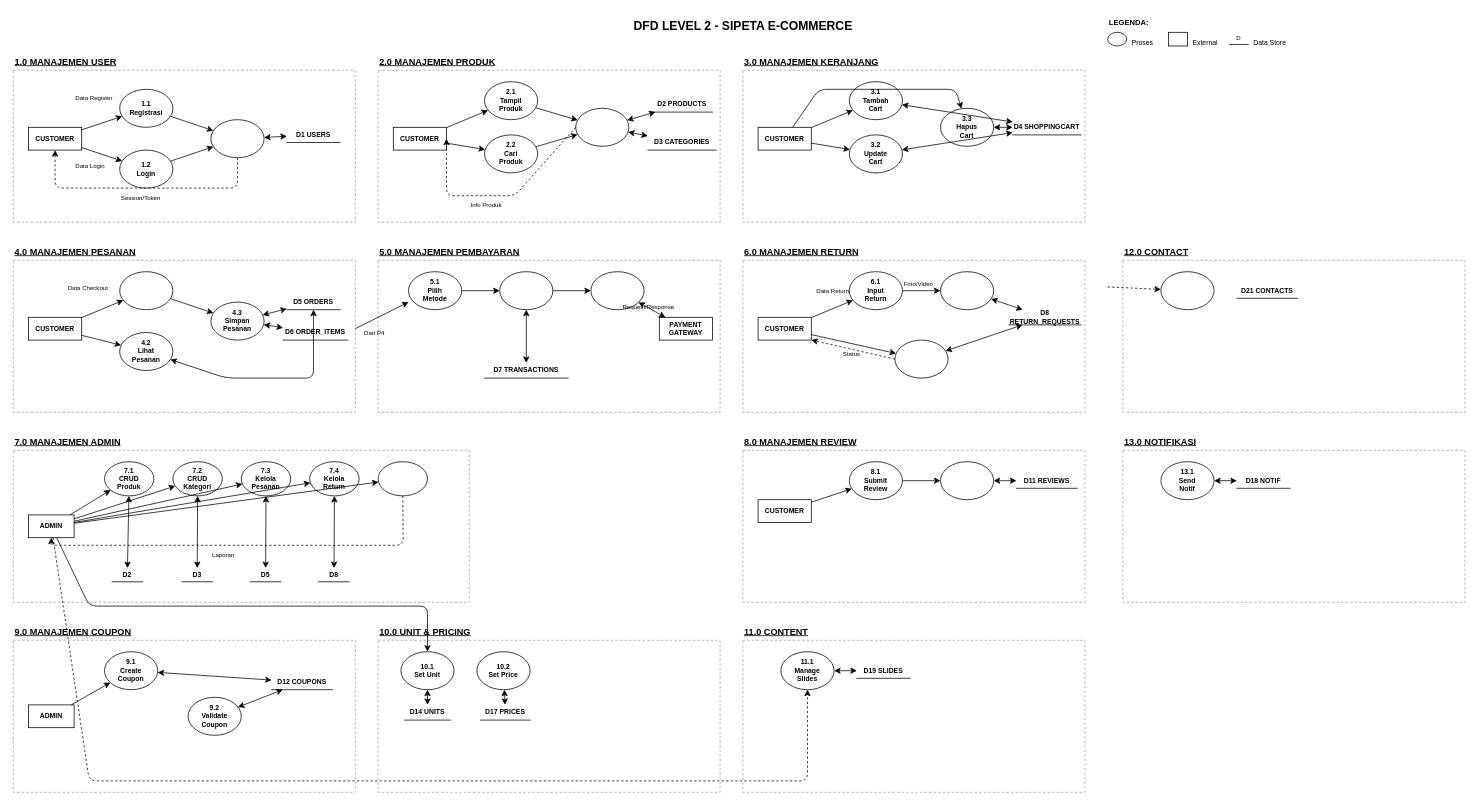
The diagram is 1478 pixels wide and 806 high, and some of its shapes have lost their labels. Here are the shapes that lost their labels. From the top down, the box of each, then its label:
(210, 119, 264, 158): 1.3 Validasi
(575, 108, 629, 146): 2.3 Filter Kategori
(119, 271, 173, 310): 4.1 Buat Pesanan
(499, 271, 553, 310): 5.2 Proses Bayar
(590, 271, 644, 310): 5.3 Konfirmasi
(940, 271, 994, 310): 6.2 Upload Bukti
(1160, 271, 1214, 310): 12.1 Send Msg
(894, 339, 948, 378): 6.3 Cek Status
(377, 461, 428, 496): 7.5 Laporan
(940, 461, 994, 500): 8.2 Moderate Review
